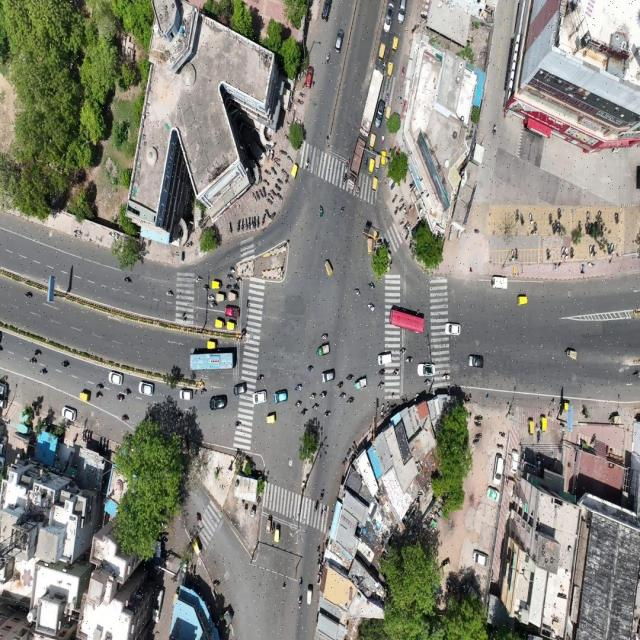3W: (185, 536, 202, 562), (564, 339, 578, 365), (322, 249, 334, 278), (376, 38, 386, 65), (263, 411, 279, 427), (78, 384, 90, 404), (364, 236, 374, 260), (316, 199, 326, 223), (263, 511, 272, 537), (315, 344, 334, 356), (290, 161, 300, 183), (275, 522, 284, 546), (204, 338, 219, 352), (517, 292, 530, 308), (306, 584, 314, 608), (387, 60, 394, 86), (371, 176, 380, 196), (375, 150, 382, 175), (385, 105, 393, 126), (392, 35, 399, 58), (212, 317, 225, 329), (226, 321, 239, 333), (369, 131, 376, 153), (212, 277, 223, 290), (381, 149, 387, 172), (214, 293, 227, 303), (228, 293, 240, 303), (368, 157, 374, 177)
Bus: (388, 302, 426, 336), (187, 349, 236, 372)
Cars: (488, 272, 510, 294), (138, 375, 158, 398), (59, 405, 79, 427), (334, 25, 348, 56), (466, 350, 485, 372), (382, 1, 393, 35), (209, 395, 230, 412), (303, 64, 317, 89), (443, 319, 462, 337), (272, 386, 290, 404), (178, 386, 195, 405), (232, 380, 248, 400), (416, 361, 436, 377), (375, 99, 385, 130), (252, 388, 269, 405), (108, 368, 124, 386), (319, 368, 336, 383), (354, 378, 370, 393), (376, 351, 394, 364)
M2W: (22, 283, 34, 304), (612, 208, 622, 229), (401, 228, 415, 243), (123, 271, 134, 288), (336, 200, 346, 218), (545, 244, 553, 266), (306, 388, 318, 402), (166, 286, 177, 301), (295, 595, 304, 613), (342, 150, 351, 168), (195, 507, 203, 527), (396, 190, 406, 206), (346, 394, 357, 408), (378, 363, 388, 378), (61, 355, 71, 369), (319, 388, 329, 402), (270, 516, 276, 539), (297, 570, 303, 592), (587, 241, 593, 263), (297, 89, 309, 100), (346, 370, 356, 383), (392, 366, 402, 379), (319, 486, 327, 502), (368, 300, 376, 316), (390, 190, 398, 206), (325, 52, 333, 68), (305, 361, 314, 375), (323, 406, 332, 420), (569, 246, 576, 264), (595, 208, 604, 222), (548, 209, 554, 230), (236, 216, 242, 237), (363, 154, 369, 175), (120, 410, 130, 422), (366, 280, 376, 292), (404, 356, 414, 368), (605, 240, 613, 255), (304, 158, 312, 173), (296, 97, 306, 109), (194, 272, 204, 284), (204, 299, 216, 309), (378, 134, 388, 146), (234, 418, 243, 431), (508, 245, 514, 264), (201, 382, 208, 398), (312, 498, 319, 514), (294, 378, 302, 392), (585, 207, 592, 223), (33, 346, 43, 357), (256, 373, 266, 384), (320, 330, 331, 340), (116, 392, 125, 404), (294, 397, 303, 409), (556, 204, 562, 222), (260, 212, 266, 230), (280, 146, 289, 158), (354, 287, 362, 300), (392, 206, 400, 219), (95, 391, 105, 401), (29, 357, 38, 368), (124, 386, 133, 397), (312, 402, 321, 413), (280, 167, 289, 178), (261, 184, 268, 198), (40, 364, 48, 376), (338, 390, 346, 402), (528, 210, 534, 226), (519, 212, 525, 228), (272, 158, 280, 170), (96, 381, 105, 391), (300, 408, 309, 418), (335, 379, 345, 388), (398, 347, 408, 356), (561, 245, 566, 263), (228, 221, 234, 236), (263, 169, 272, 179), (269, 188, 278, 198), (228, 265, 237, 275), (253, 215, 258, 232), (323, 504, 329, 518), (341, 171, 348, 183), (398, 216, 406, 226), (236, 276, 244, 286), (380, 61, 388, 71), (355, 186, 361, 199), (386, 48, 392, 61), (385, 89, 391, 102), (277, 176, 284, 187), (202, 283, 209, 294), (534, 220, 539, 235), (251, 192, 257, 204), (226, 273, 234, 282), (226, 282, 233, 292), (233, 283, 241, 291), (378, 381, 384, 391), (206, 294, 215, 300), (244, 218, 248, 231)
Truck: (350, 63, 382, 137), (342, 132, 371, 196)
